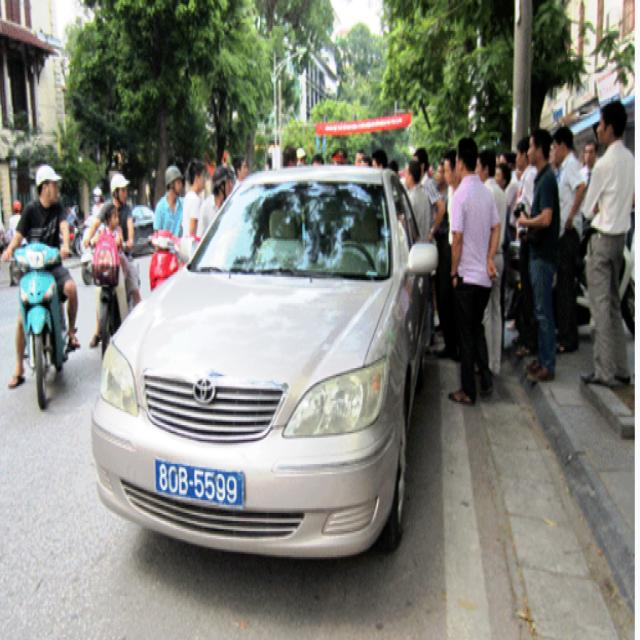license_plate: (157, 459, 246, 507)
